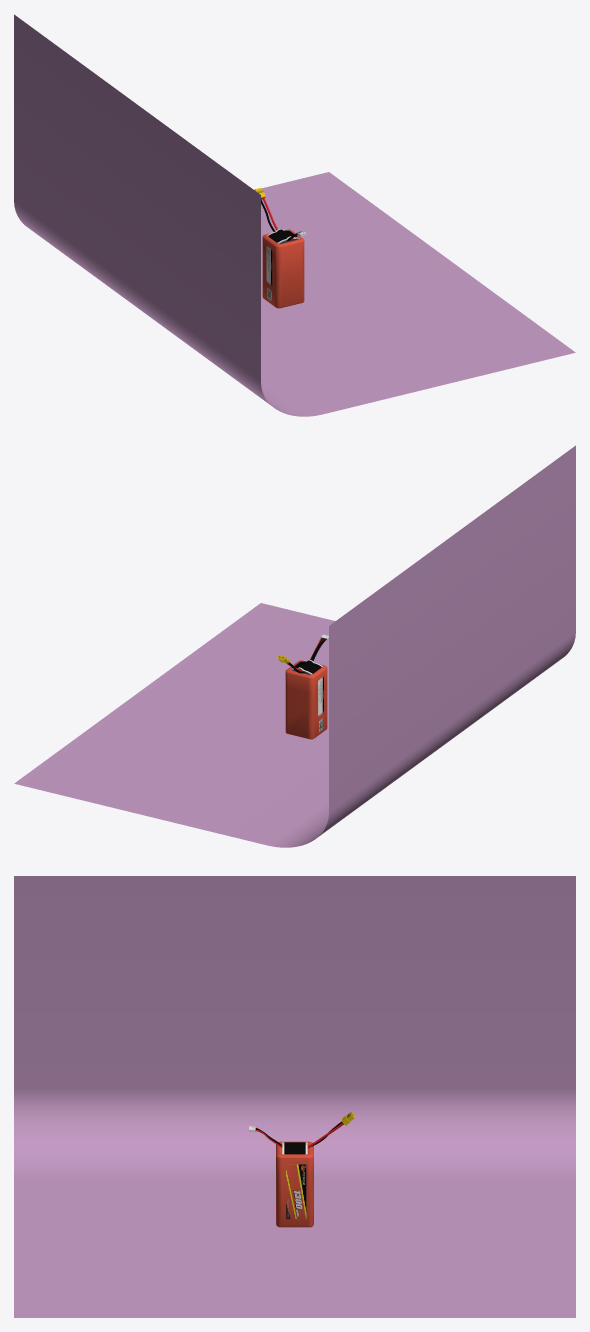
Rendered from lipo-4s.glb.
3 renders of one model, top to bottom at view 1: azimuth 30°, elevation 25°; view 2: azimuth 150°, elevation 25°; view 3: azimuth 270°, elevation 25°, orthographic. The views are drawn at different scales.
Parts seen in each view (by area): view 1: Plane bg_floor_0, main_battery; view 2: Plane bg_floor_0, main_battery; view 3: Plane bg_floor_0, main_battery.
Boxes of the visible parts, <box> form: Plane bg_floor_0: <box>14,14,575,416</box>; main_battery: <box>262,229,304,308</box>; Plane bg_floor_0: <box>14,445,575,847</box>; main_battery: <box>285,660,327,739</box>; Plane bg_floor_0: <box>14,876,575,1317</box>; main_battery: <box>276,1141,313,1227</box>.
Bounding box in the file's own units: 0.291 × 0.207 × 0.3951.
2 materials, 2 textured.
